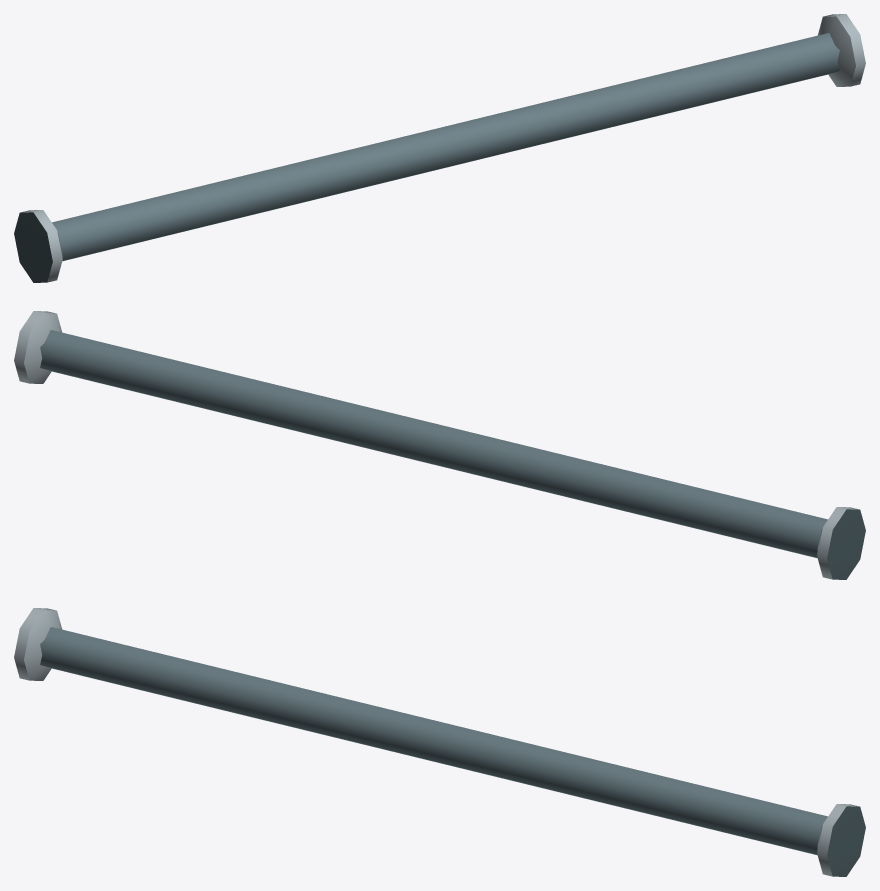
File: Pipe_002.glb
The picture shows the model from 3 angles, top to bottom: view 1: azimuth 30°, elevation 25°; view 2: azimuth 150°, elevation 25°; view 3: azimuth 330°, elevation 25°; orthographic projection.
Visible parts, largest first — view 1: Pipe_002; view 2: Pipe_002; view 3: Pipe_002.
Part boxes in pixels (x1,y1,x2,y2): Pipe_002: (14, 14, 865, 282); Pipe_002: (14, 311, 865, 579); Pipe_002: (14, 608, 865, 876).
Size of the model in its own units: 3.07 by 0.255 by 0.255.
Materials: 1 (1 with a texture image).
